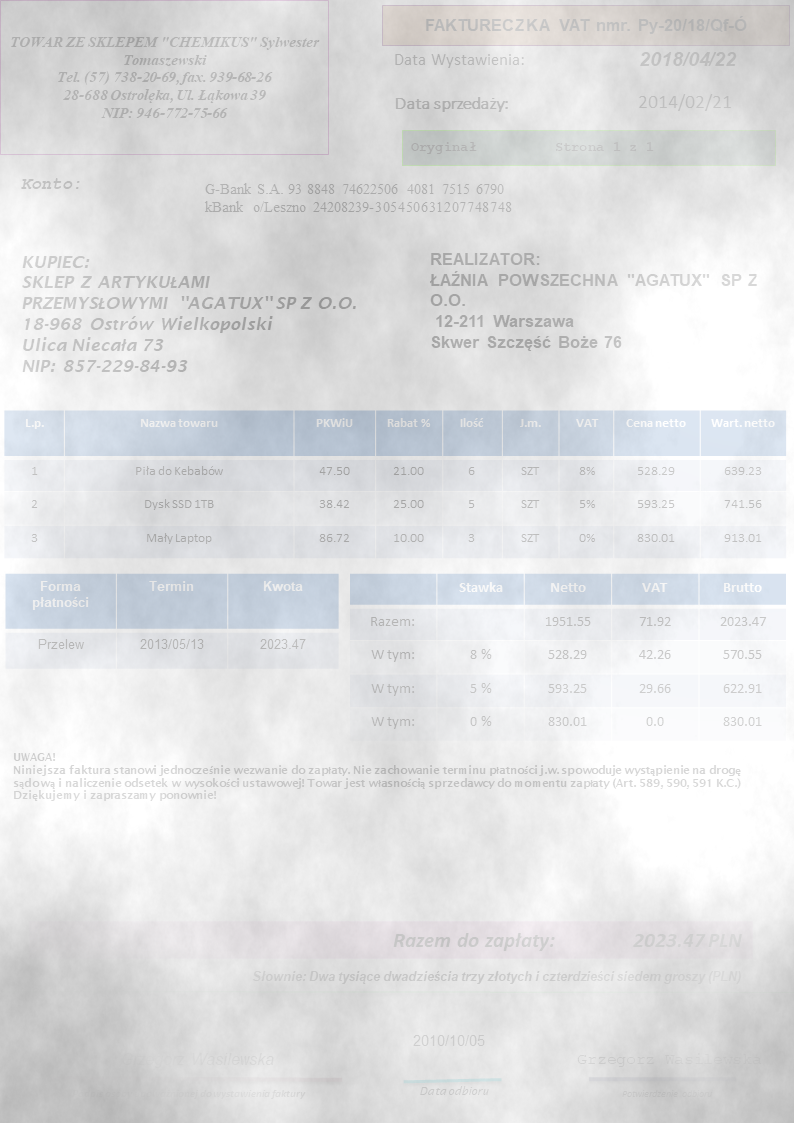Table: (2, 409, 788, 559), (348, 571, 788, 741), (4, 573, 339, 670)
TextBox: (17, 251, 361, 377), (10, 747, 744, 805), (427, 248, 761, 354), (7, 30, 321, 124), (199, 178, 514, 219), (249, 964, 748, 988), (387, 924, 746, 955), (419, 13, 748, 34), (409, 136, 655, 157), (67, 1083, 309, 1102), (118, 1045, 277, 1070), (572, 1049, 763, 1069), (392, 49, 526, 70), (392, 92, 511, 115), (634, 46, 739, 72), (635, 90, 735, 115), (618, 1084, 716, 1103), (408, 1029, 487, 1051), (17, 173, 81, 193), (417, 1081, 492, 1097)
